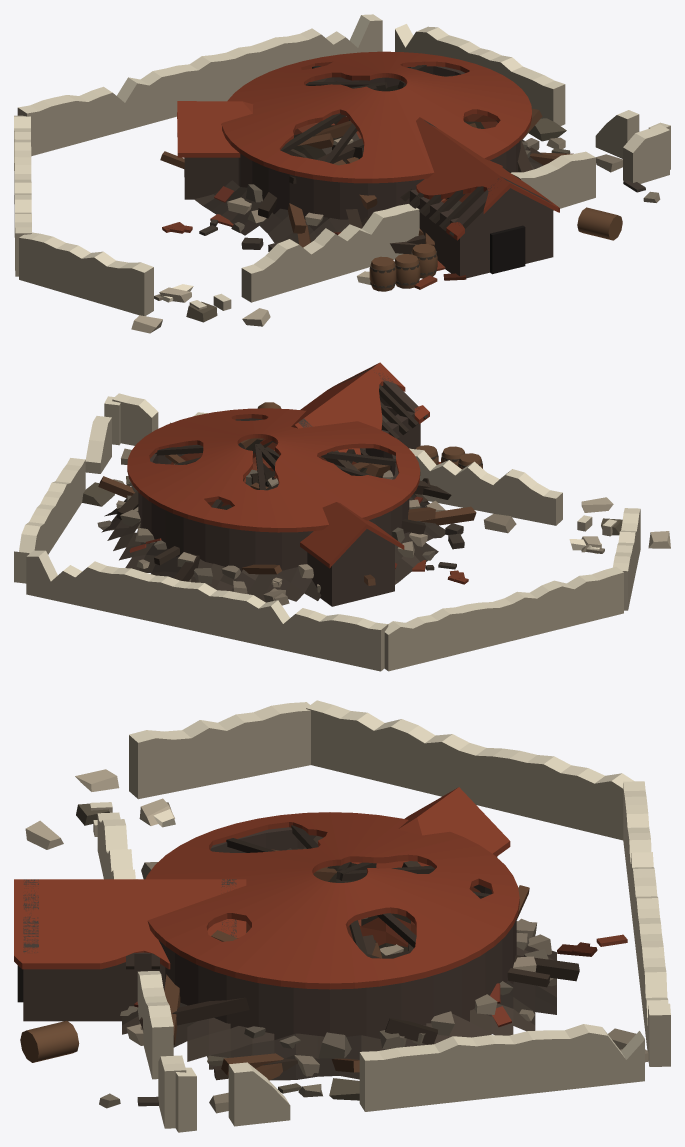
File: VerBuild02a.glb
The picture shows the model from 3 angles, top to bottom: view 1: azimuth 30°, elevation 25°; view 2: azimuth 150°, elevation 25°; view 3: azimuth 270°, elevation 25°; orthographic projection. The views are drawn at different scales.
Parts seen in each view (by area): view 1: VerBuild02a_roof; view 2: VerBuild02a_roof; view 3: VerBuild02a_roof.
Boxes of the visible parts, left/top/right/bottom form: VerBuild02a_roof: left=14, top=14, right=670, bottom=333; VerBuild02a_roof: left=14, top=362, right=670, bottom=671; VerBuild02a_roof: left=14, top=700, right=670, bottom=1132.
Bounding box in the file's own units: 14.51 × 2.29 × 10.69.
